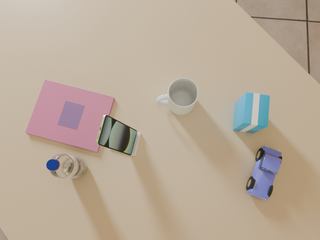book: (25, 80, 114, 152)
bottle: (46, 154, 87, 178)
box: (233, 92, 270, 133)
cup: (157, 78, 199, 115)
phone: (96, 114, 137, 155)
toy_car: (246, 146, 282, 200)
